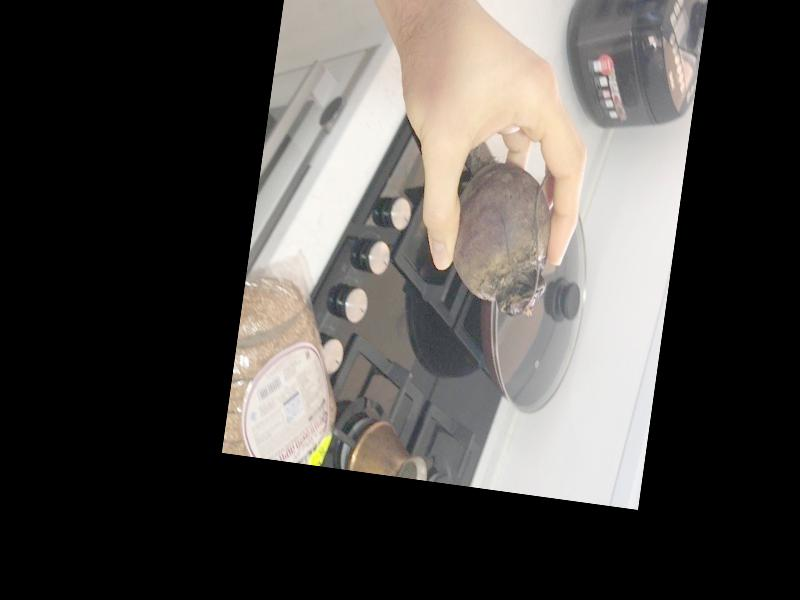Beet: (445, 148, 560, 320)
